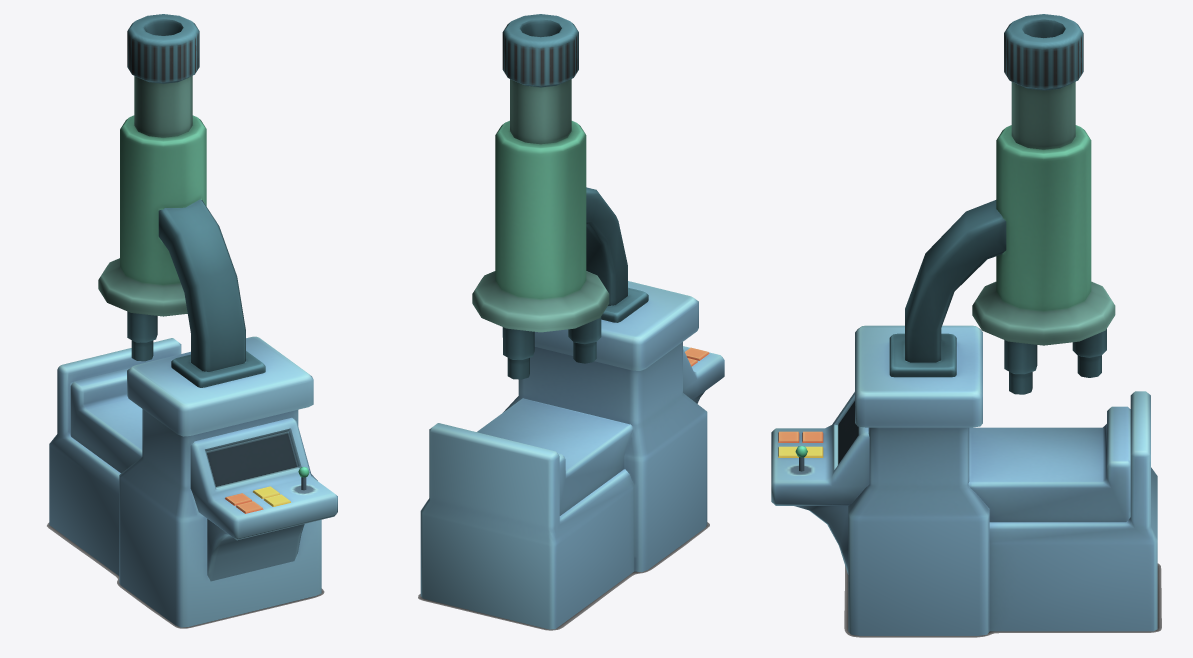
The model's file is ScienceLab_Item_Microscope.FBX.
3 views of the same model, side by side, from view 1: azimuth 30°, elevation 25°; view 2: azimuth 150°, elevation 25°; view 3: azimuth 270°, elevation 25° (orthographic). The views are drawn at different scales.
Parts seen in each view (by area): view 1: ScienceLab_Item_Microscope, ScienceLab_Shadow_Microscope; view 2: ScienceLab_Item_Microscope, ScienceLab_Shadow_Microscope; view 3: ScienceLab_Item_Microscope, ScienceLab_Shadow_Microscope.
Boxes of the visible parts, x1,y1,x2,y2 form: ScienceLab_Item_Microscope: (49, 14, 337, 627); ScienceLab_Shadow_Microscope: (47, 522, 324, 628); ScienceLab_Item_Microscope: (420, 14, 724, 629); ScienceLab_Shadow_Microscope: (418, 522, 709, 630); ScienceLab_Item_Microscope: (771, 14, 1157, 635); ScienceLab_Shadow_Microscope: (844, 563, 1161, 637).
Size of the model in its own units: 1.47 by 4.16 by 2.7.
